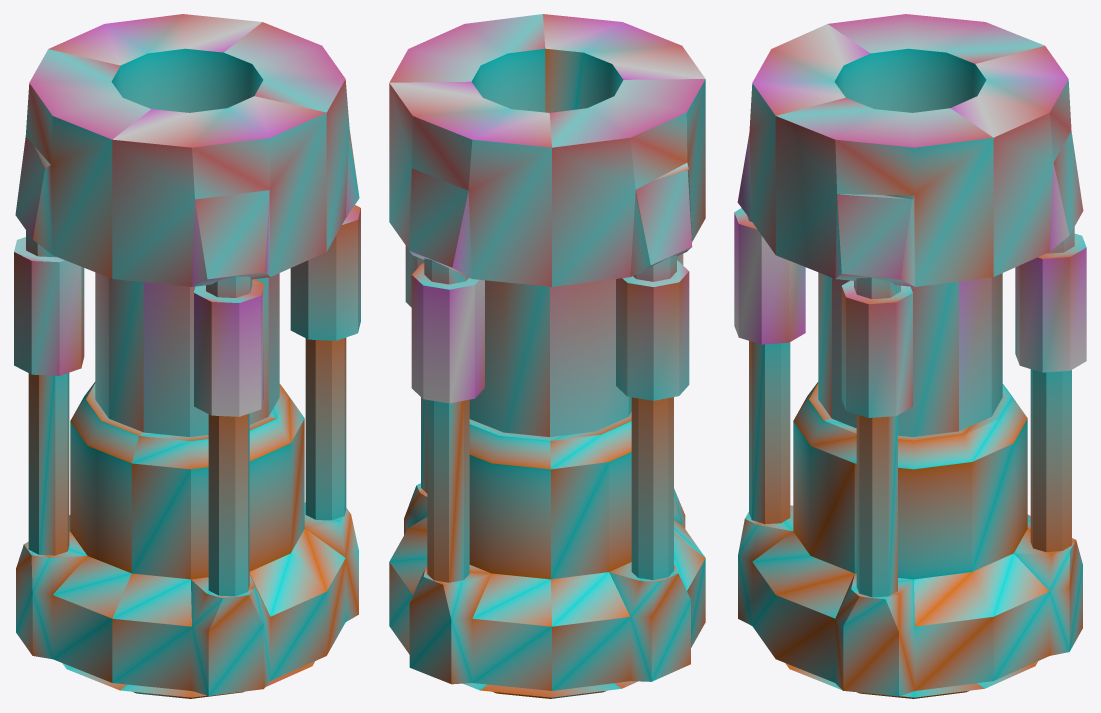
Rendered from Skill_huopao_02.FBX.
The picture shows the model from 3 angles, left to right: view 1: azimuth 30°, elevation 25°; view 2: azimuth 150°, elevation 25°; view 3: azimuth 270°, elevation 25°; orthographic projection.
Parts seen in each view (by area): view 1: Object001; view 2: Object001; view 3: Object001.
Part boxes in pixels (x1=…): Object001: x1=14, y1=14, x2=360, y2=698; Object001: x1=389, y1=14, x2=705, y2=698; Object001: x1=734, y1=14, x2=1086, y2=698.
Bounding box in the file's own units: 25.8 × 46.31 × 25.8.
